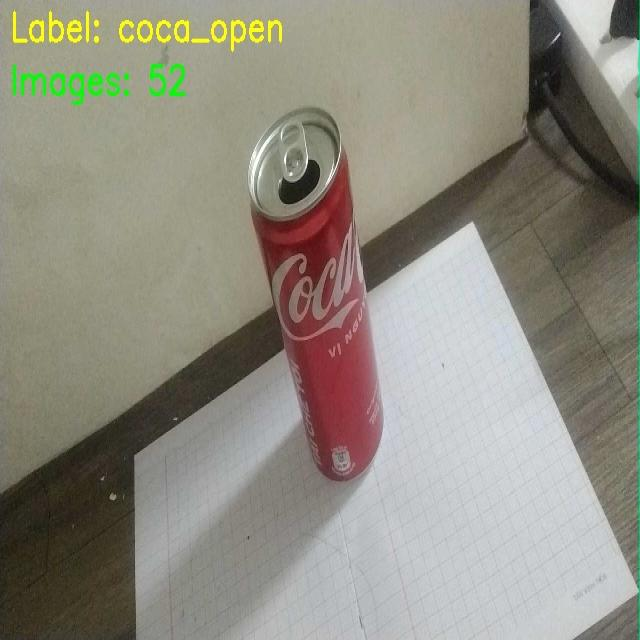Coca_open: (252, 106, 398, 521)
